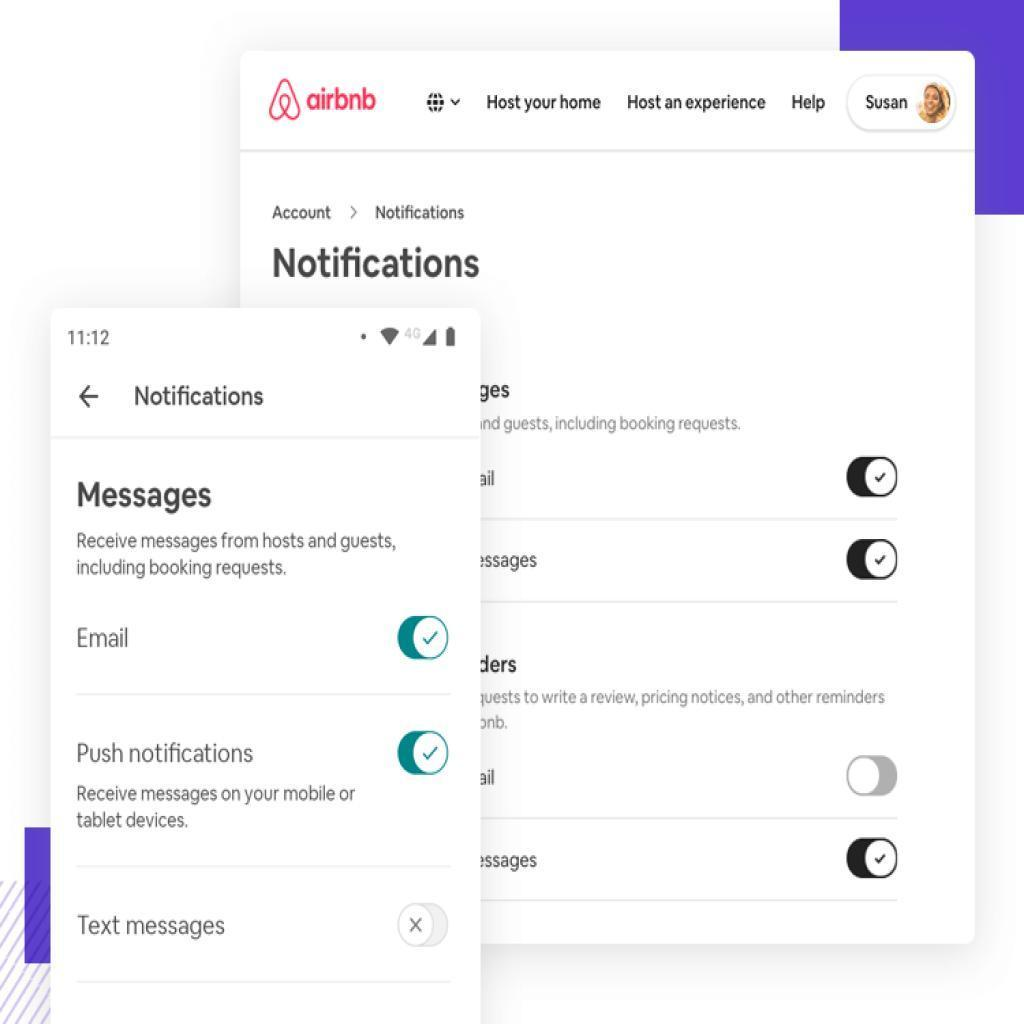icon: (77, 381, 108, 417)
label: (74, 787, 361, 836), (76, 901, 230, 945), (75, 740, 256, 766), (70, 621, 147, 654)
switch: (390, 612, 461, 665), (838, 453, 906, 506), (841, 534, 905, 588), (392, 732, 452, 779), (845, 835, 900, 885), (848, 754, 909, 799), (399, 905, 455, 952)
